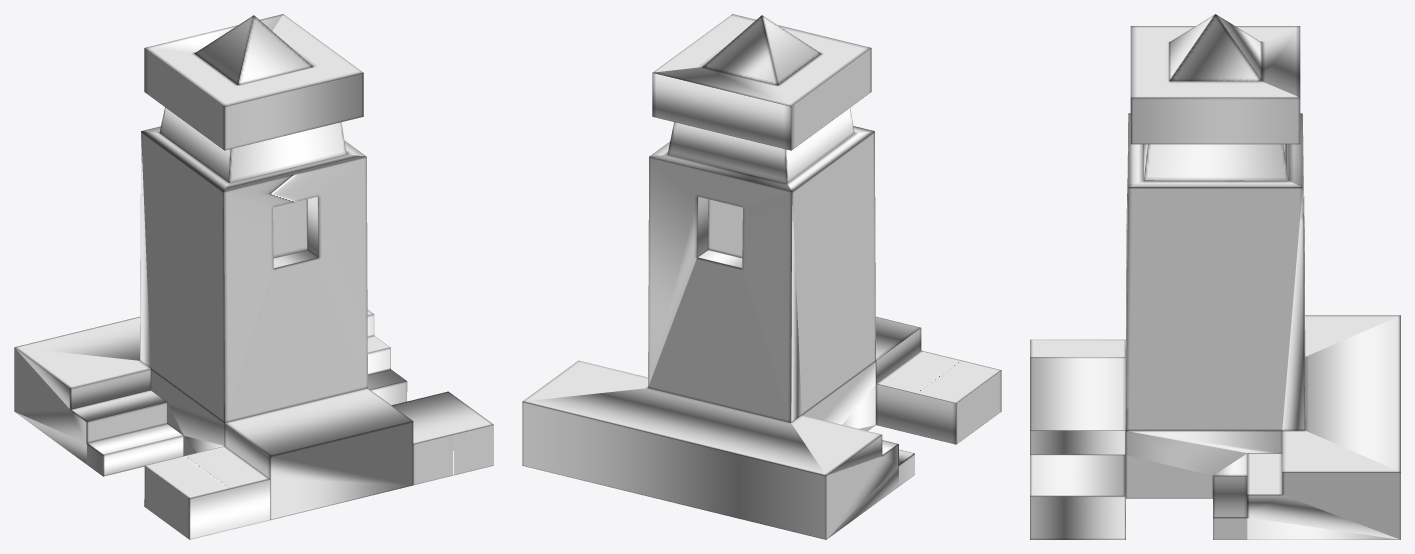
File: Outpost-01.fbx
3 views of the same model, side by side, from view 1: azimuth 30°, elevation 25°; view 2: azimuth 150°, elevation 25°; view 3: azimuth 270°, elevation 25° (orthographic). The views are drawn at different scales.
Parts seen in each view (by area): view 1: Outpost_01; view 2: Outpost_01; view 3: Outpost_01.
Boxes of the visible parts, bbox=[...] form: Outpost_01: bbox=[14, 14, 493, 539]; Outpost_01: bbox=[522, 14, 1001, 539]; Outpost_01: bbox=[1030, 14, 1400, 539].
Size of the model in its own units: 2.5 by 3.33 by 2.5.
